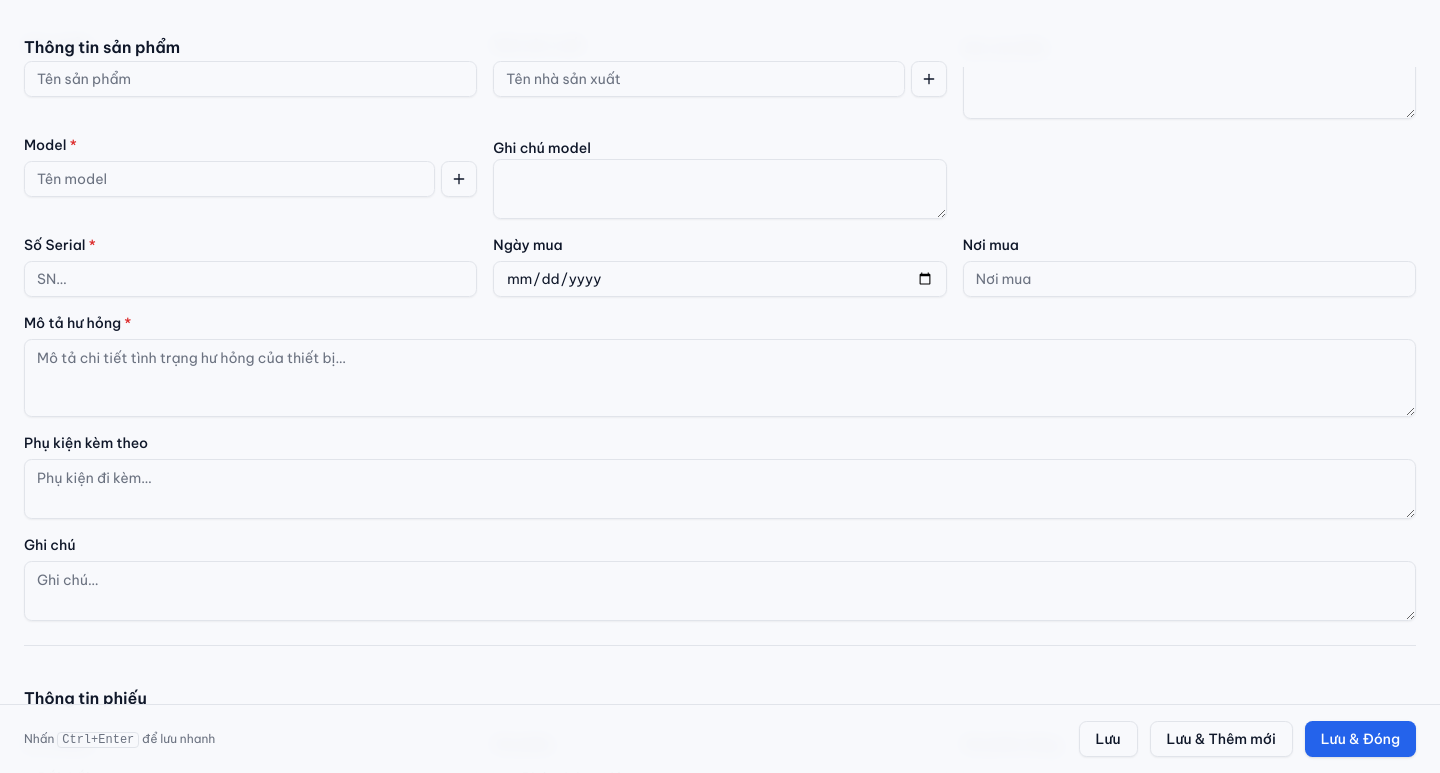
Test case: RepairCreateForm › shows the legacy required-field messages on an empty submit
What coordinates should you click on to do the following:
click the button "Lưu"
I would click on:
 (1108, 739)
Its box is [1079, 721, 1138, 757].
(page scrolled)
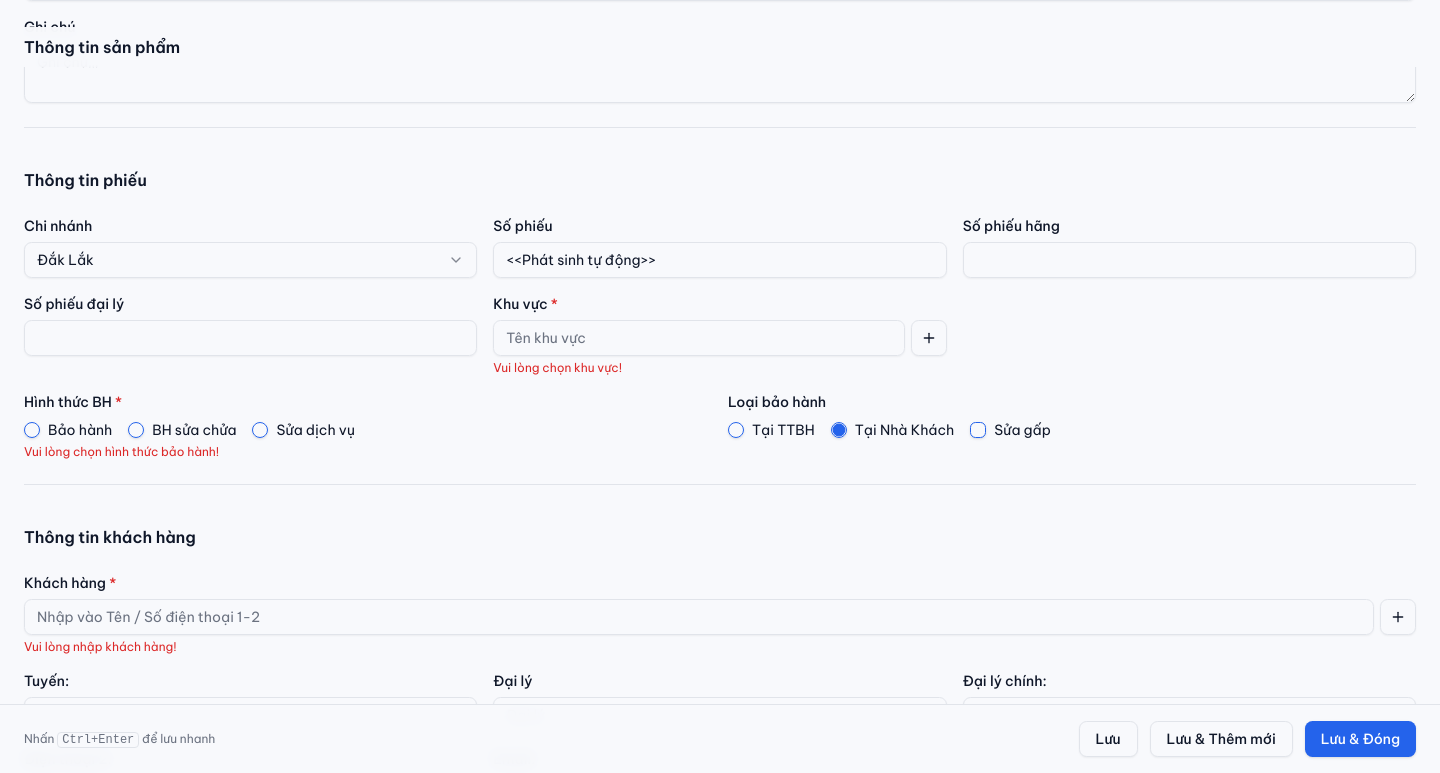
Check: the text "Vui lòng chọn hình thức bảo hành!" is shown, box [24, 444, 219, 459]
Check: the text "Vui lòng nhập khách hàng!" is shown, box [24, 639, 177, 654]
Check: the text "Vui lòng chọn khu vực!" is shown, box [493, 360, 622, 375]
